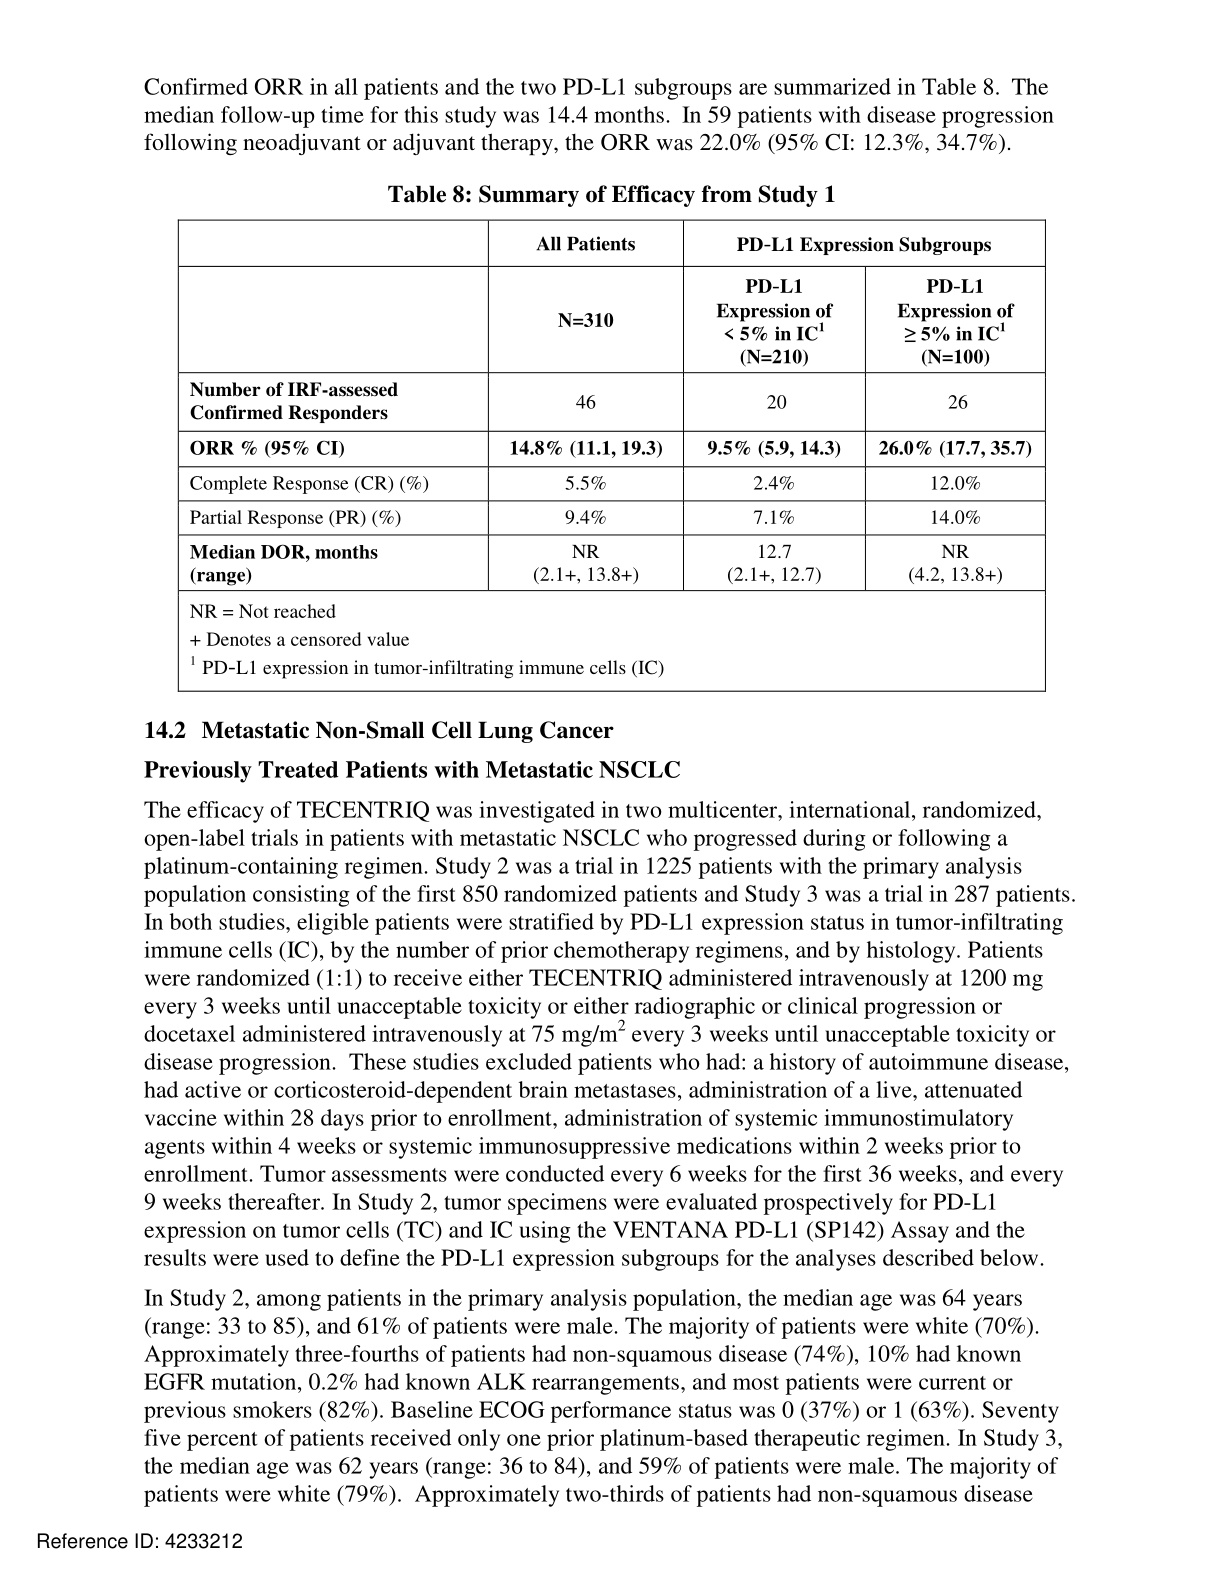merged_cells: (176, 219, 1047, 694)
